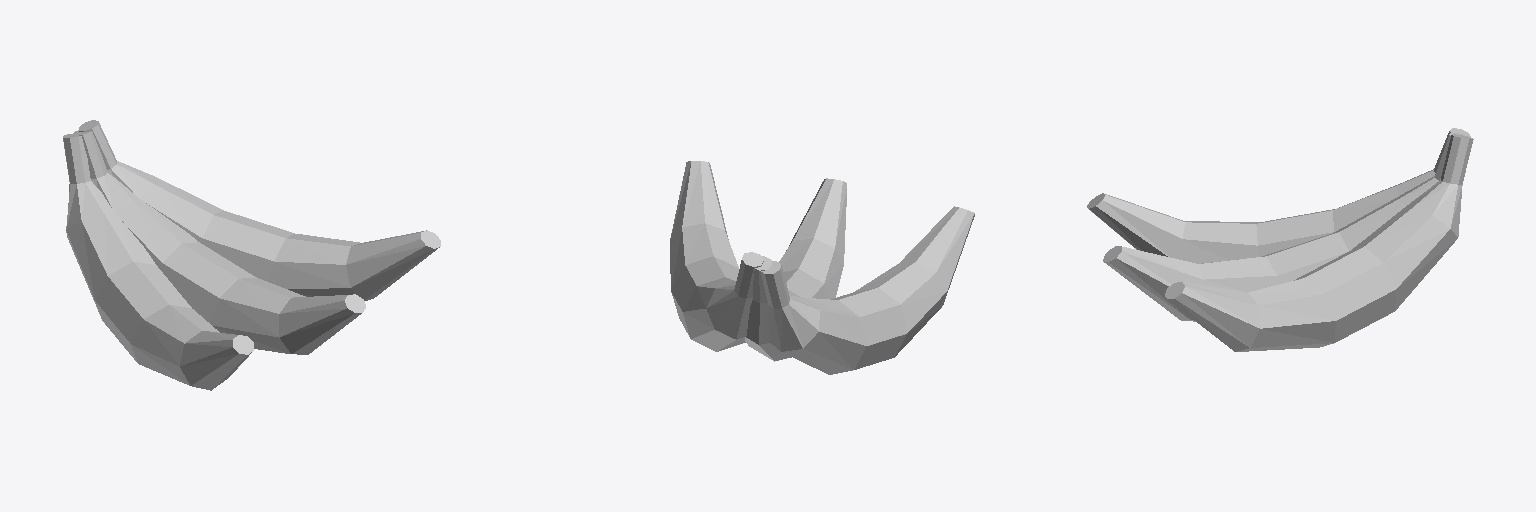
File: Bananas.obj
The picture shows the model from 3 angles: view 1: azimuth 30°, elevation 25°; view 2: azimuth 150°, elevation 25°; view 3: azimuth 270°, elevation 25°; orthographic projection.
Parts seen in each view (by area): view 1: pCylinder1, pCylinder3, pCylinder2; view 2: pCylinder1, pCylinder3, pCylinder2; view 3: pCylinder3, pCylinder1, pCylinder2.
Part boxes in pixels (bbox=[...]): pCylinder1: bbox=[63, 134, 253, 390]; pCylinder3: bbox=[79, 120, 440, 300]; pCylinder2: bbox=[72, 130, 365, 354]; pCylinder1: bbox=[761, 206, 974, 374]; pCylinder3: bbox=[670, 161, 763, 351]; pCylinder2: bbox=[745, 178, 846, 361]; pCylinder3: bbox=[1165, 134, 1473, 351]; pCylinder1: bbox=[1087, 128, 1470, 263]; pCylinder2: bbox=[1103, 133, 1464, 321].
Bounding box in the file's own units: 6.77 × 4.17 × 8.59.